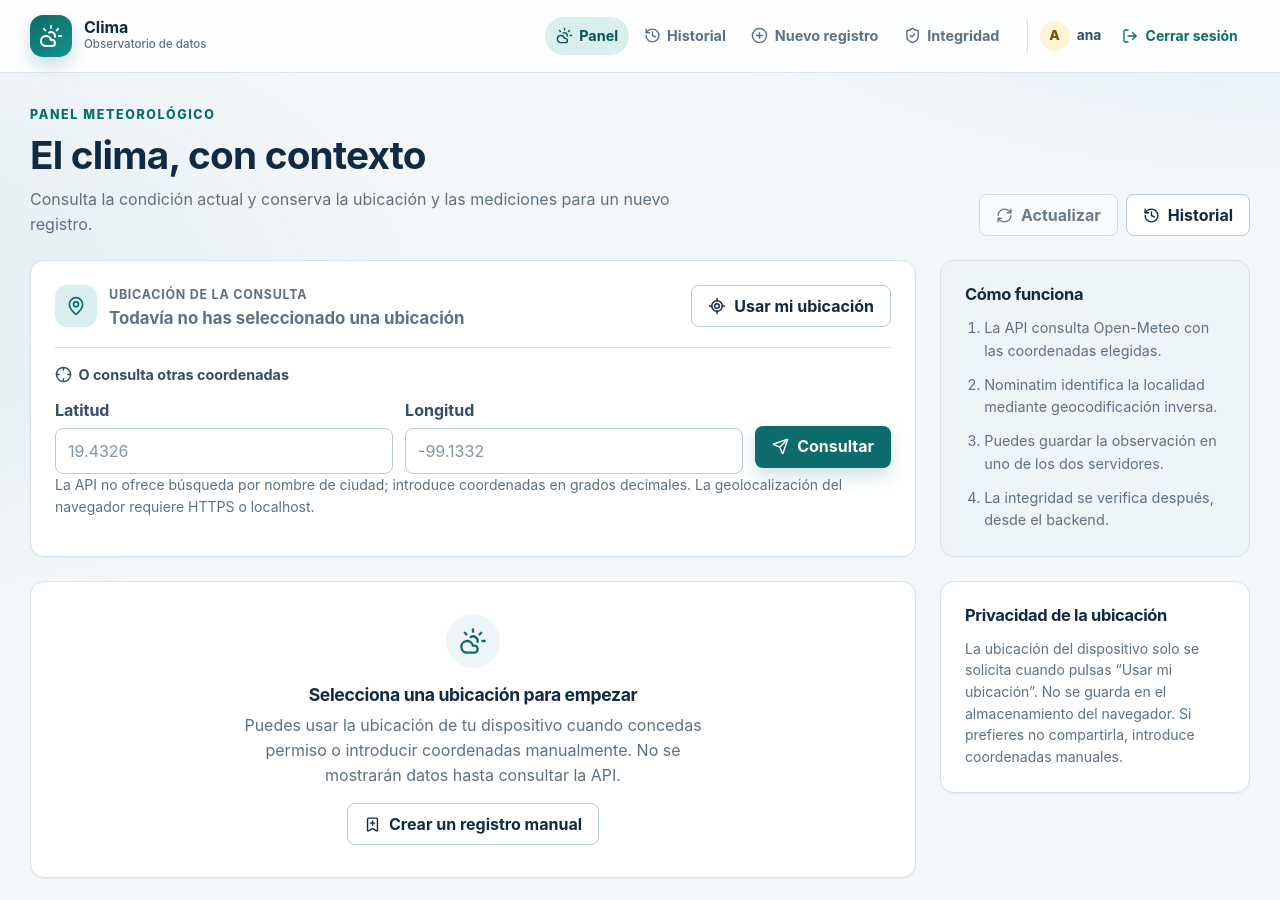
panel meteorológico › explica el rechazo de permiso de ubicación y no inventa datos
Expected: the heading "El clima, con contexto" is shown, [30,131,426,178]
Click the button "Usar mi ubicación" at (791, 306), box [691,285,891,327]
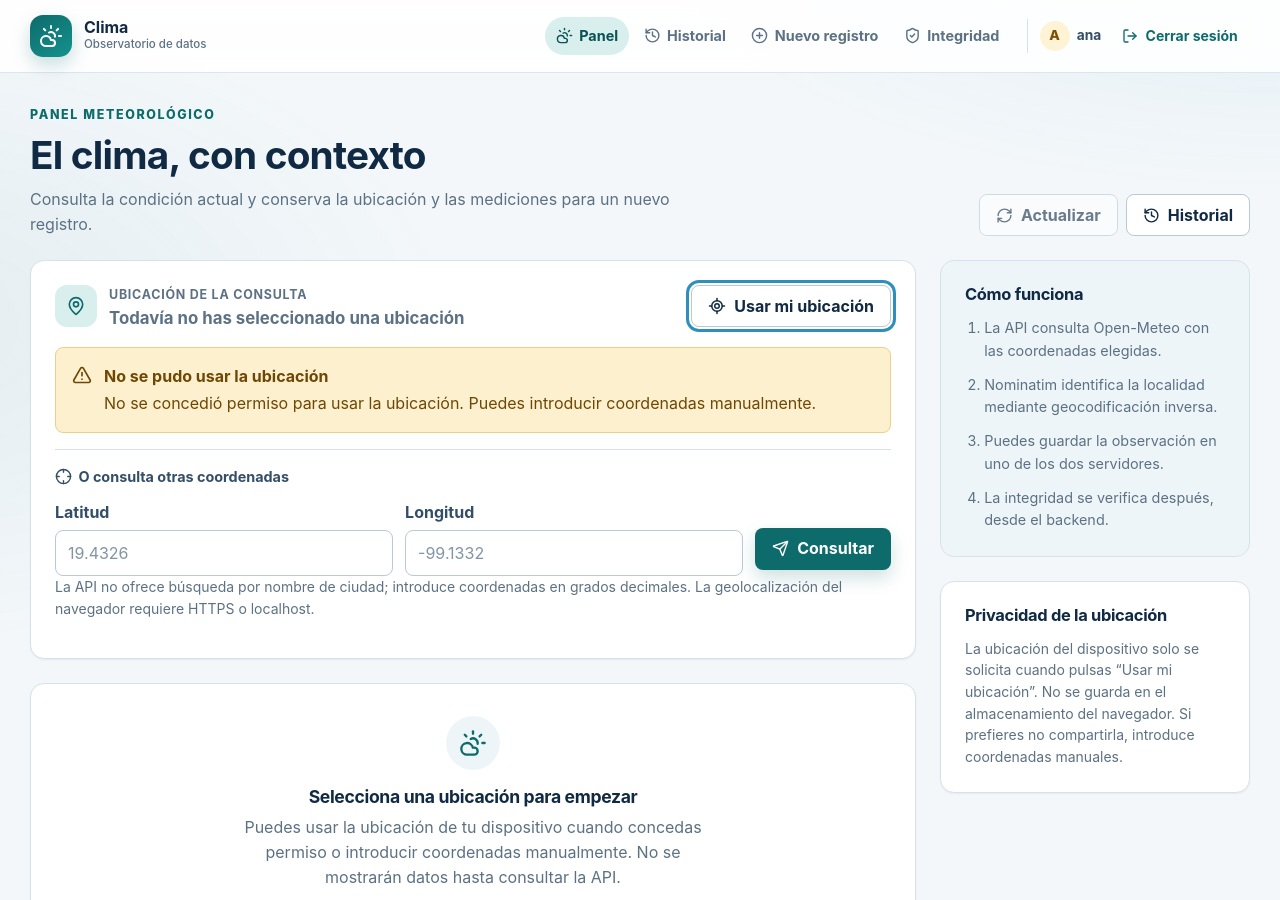
Expected: the text "No se concedió permiso" is shown, [104,393,816,413]
